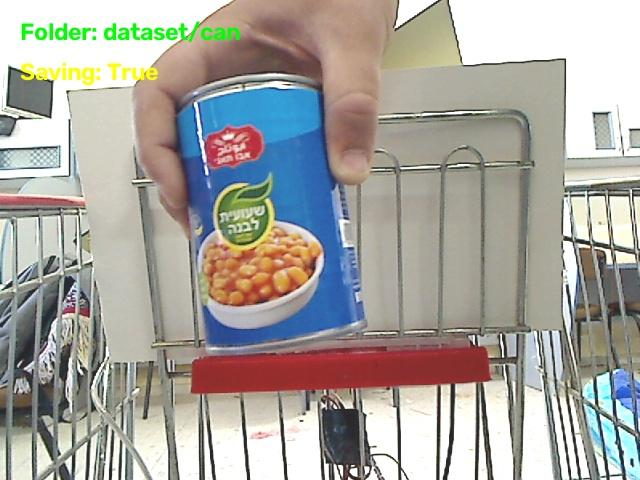can: (177, 74, 365, 353)
